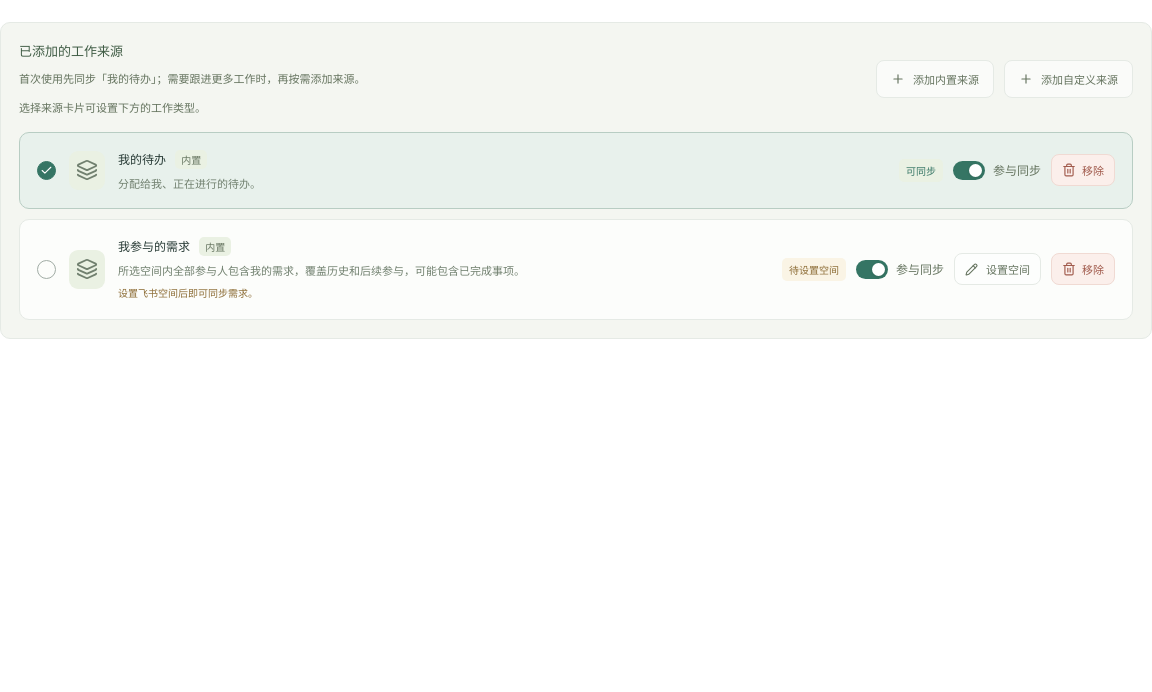
Scenario: 可停用内置来源，未绑定的需求来源只开放空间绑定
Click the switch named "启用我的待办": [997, 170] box 953,161 -> 1041,180
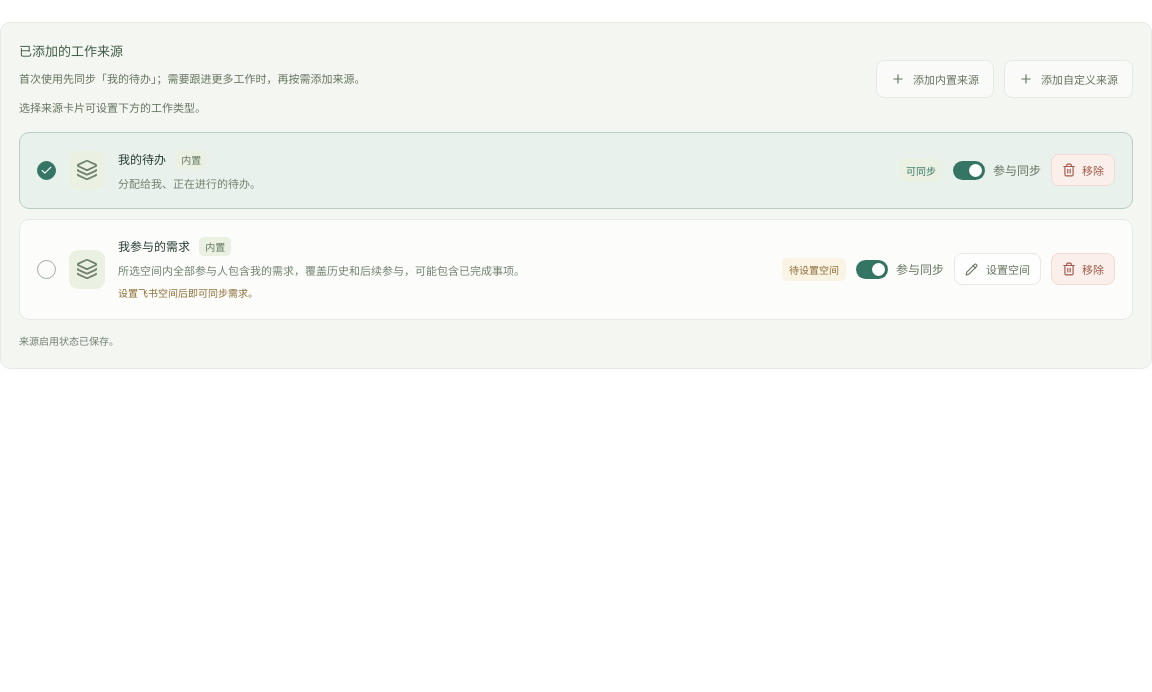
Click the button with aria-label "设置空间我参与的需求": [998, 269] box 954,253 -> 1041,285
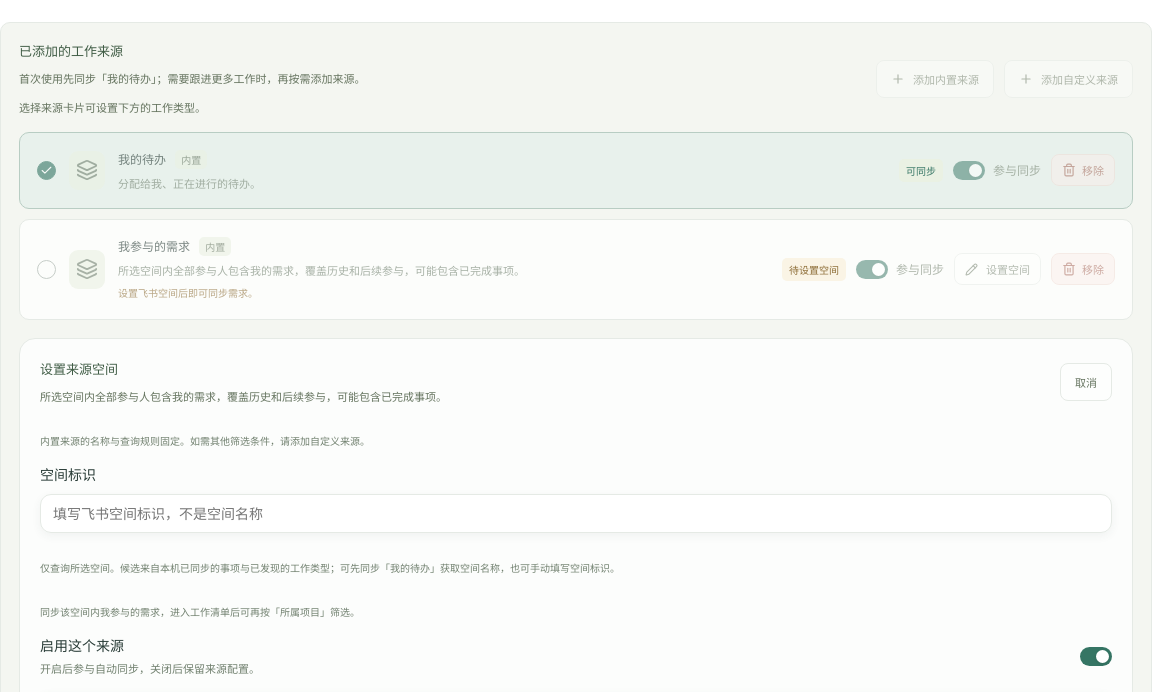
Now the field named "来源空间标识" is shown, box 40,494 -> 1112,533
